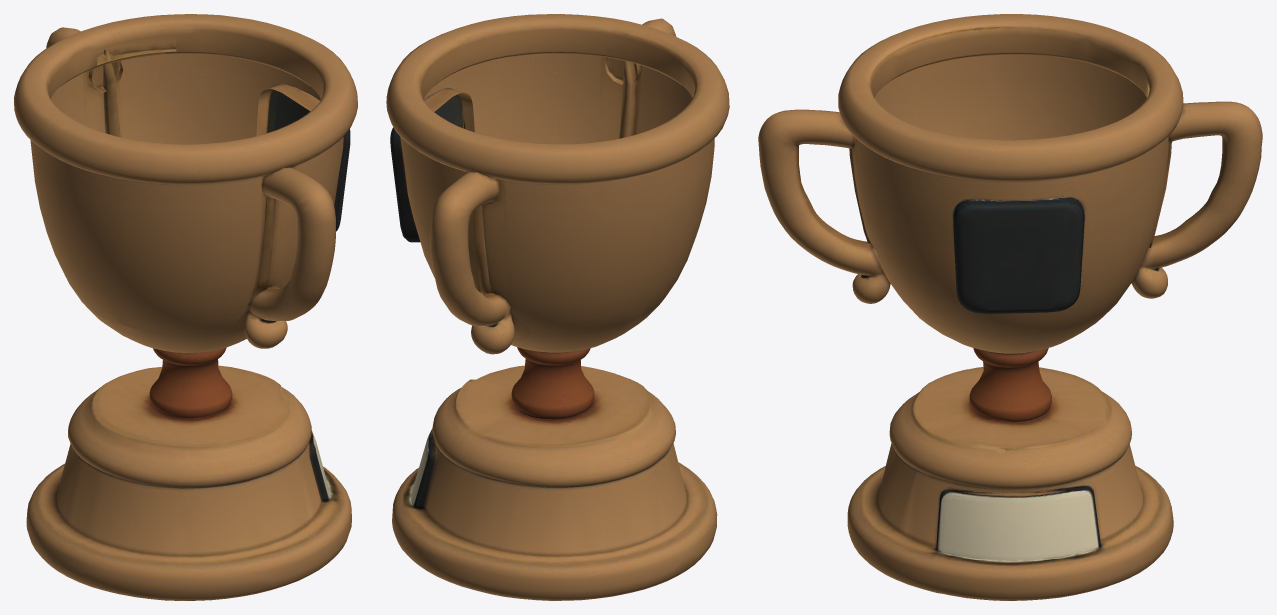
Rendered from prop_trophy_gold_01.glb.
3 renders of one model, left to right at view 1: azimuth 30°, elevation 25°; view 2: azimuth 150°, elevation 25°; view 3: azimuth 270°, elevation 25°, orthographic.
Parts seen in each view (by area): view 1: prop_trophy_gold_01; view 2: prop_trophy_gold_01; view 3: prop_trophy_gold_01.
Boxes of the visible parts, <box> form: prop_trophy_gold_01: <box>14,14,357,600</box>; prop_trophy_gold_01: <box>386,14,729,600</box>; prop_trophy_gold_01: <box>758,14,1262,600</box>.
Size of the model in its own units: 0.6098 by 0.9 by 0.8947.
1 material, 1 textured.
